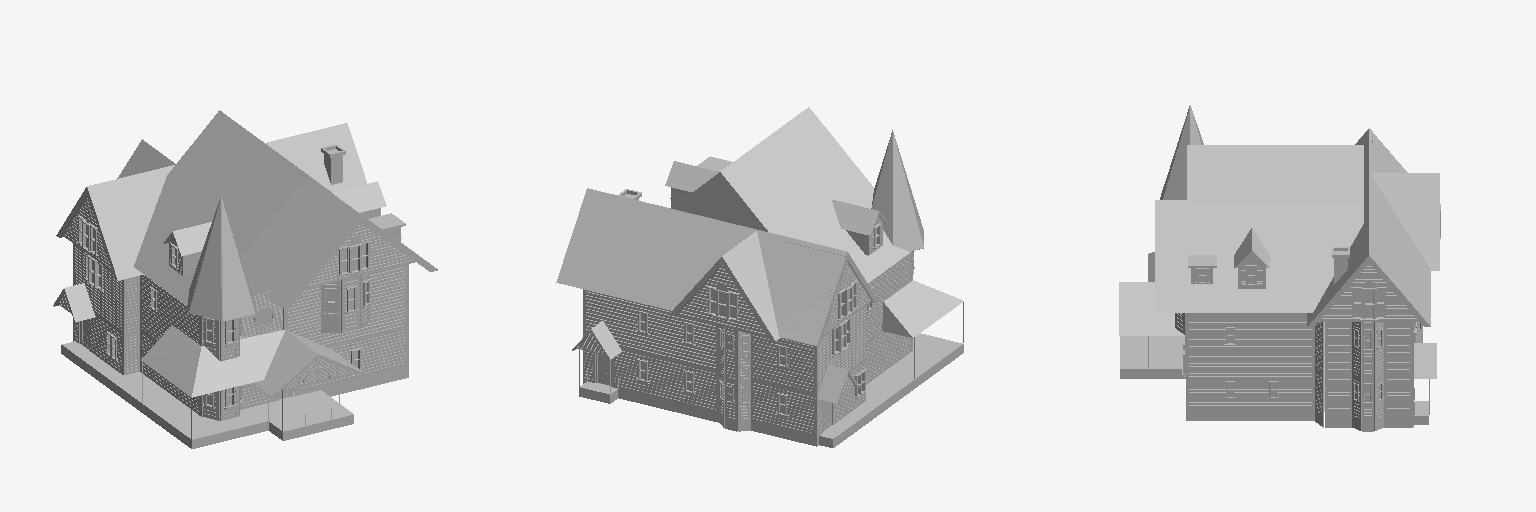
The model's file is escena.obj.
3 views of the same model, side by side, from view 1: azimuth 30°, elevation 25°; view 2: azimuth 150°, elevation 25°; view 3: azimuth 270°, elevation 25° (orthographic).
Visible parts, largest first — view 1: Plane.071_Plane.077; view 2: Plane.071_Plane.077; view 3: Plane.071_Plane.077.
Part boxes in pixels (x1,y1,x2,y2): Plane.071_Plane.077: (53, 110, 437, 448); Plane.071_Plane.077: (556, 107, 963, 447); Plane.071_Plane.077: (1119, 105, 1440, 431).
Bounding box in the file's own units: 6.03 × 4.81 × 6.17.